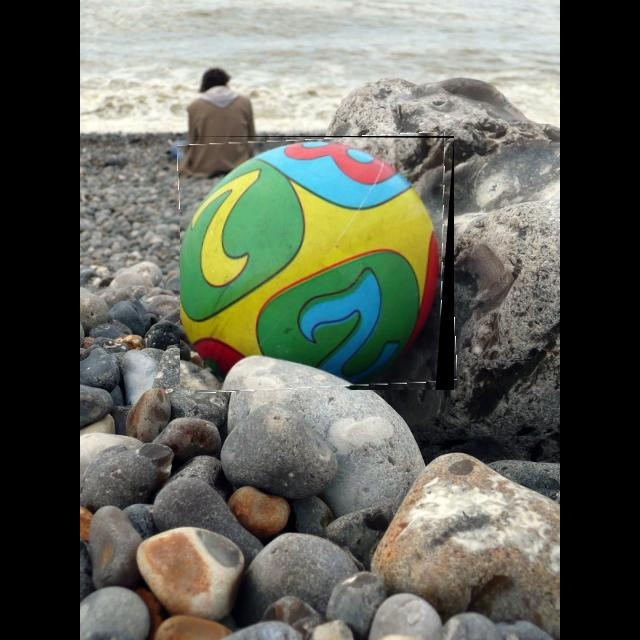Football: (180, 136, 454, 390)
